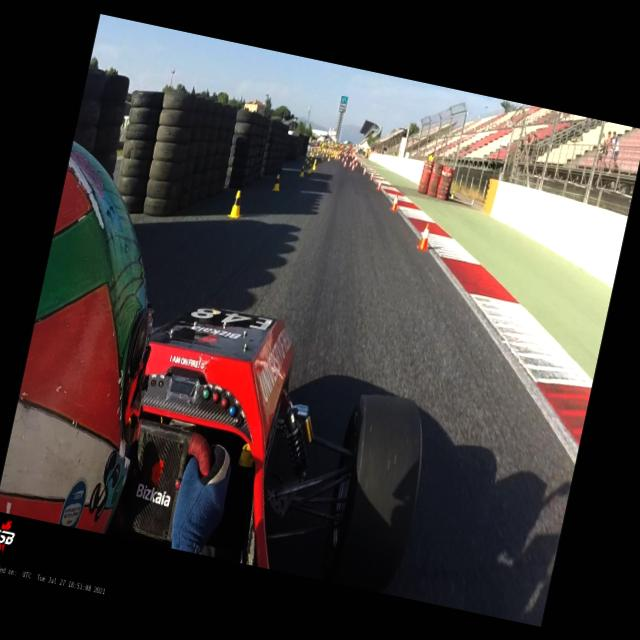orange_cone: (414, 220, 433, 252), (388, 193, 401, 212), (376, 179, 382, 191), (368, 171, 374, 181), (350, 162, 355, 172), (342, 159, 347, 167), (362, 167, 366, 176), (348, 160, 352, 167), (340, 156, 344, 162), (354, 161, 358, 167)
yellow_cone: (226, 188, 248, 220), (271, 173, 283, 192), (298, 165, 306, 177), (306, 162, 314, 173), (311, 160, 317, 170), (306, 154, 310, 164), (320, 154, 325, 162), (450, 190, 454, 198), (304, 154, 308, 161), (327, 156, 331, 162)
